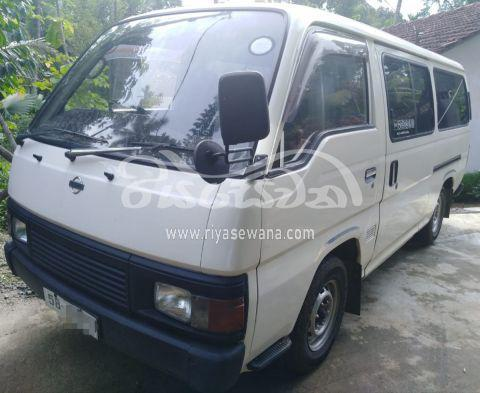Van: (0, 3, 479, 351)
